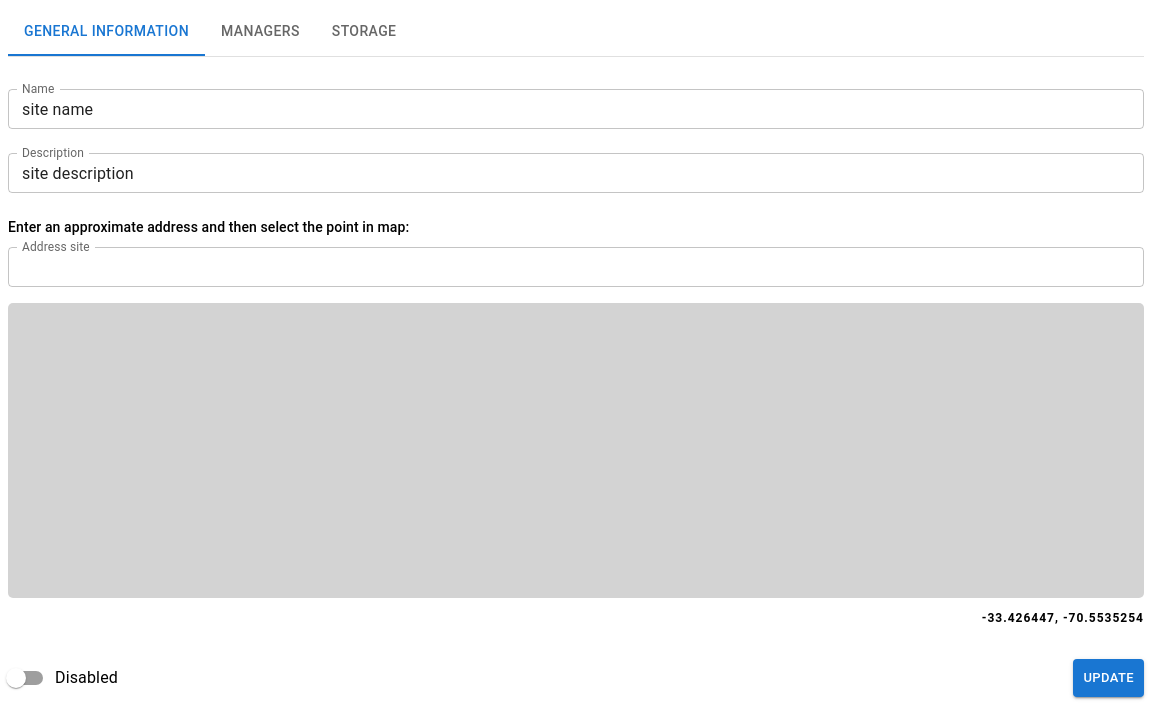
Test: SiteForm › should remove storage
Step 1. Click the tab "Storage" → point(364, 32), box [316,8,412,56]
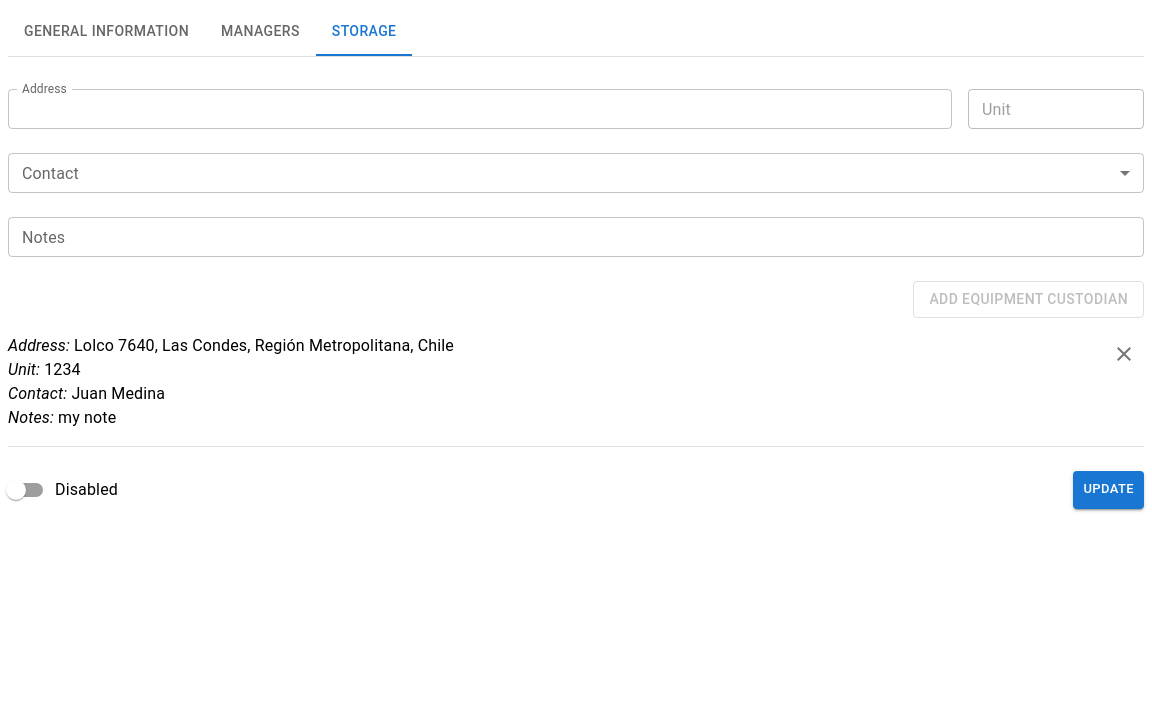
Expected: the text "Lolco 7640, Las Condes, Región Metropolitana, Chile" is shown, [74,336,454,354]
Expected: the text "1234" is shown, [44,360,81,378]
Expected: the text "Juan Medina" is shown, [71,384,165,402]
Step 2. Click the button with test id "CloseIcon" → point(1124, 354), box [1104,334,1144,374]
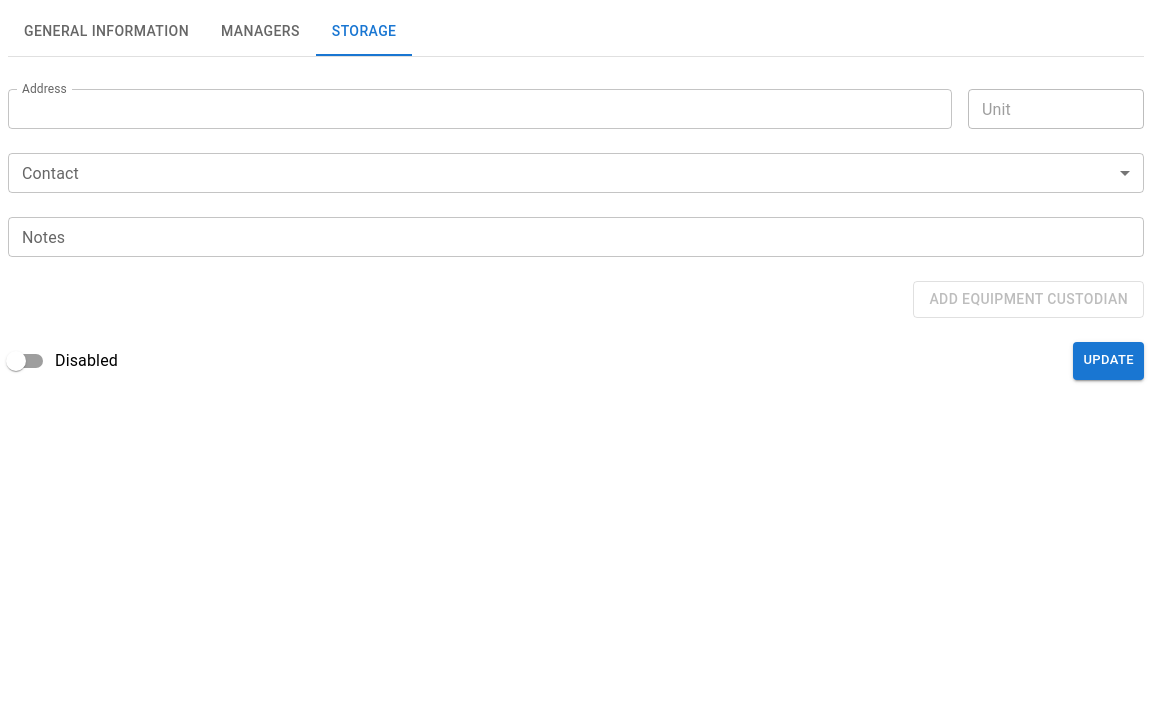
Expected: the text "Lolco 7640, Las Condes, Región Metropolitana, Chile" is gone
Expected: the text "1234" is gone
Expected: the text "Juan Medina" is gone
